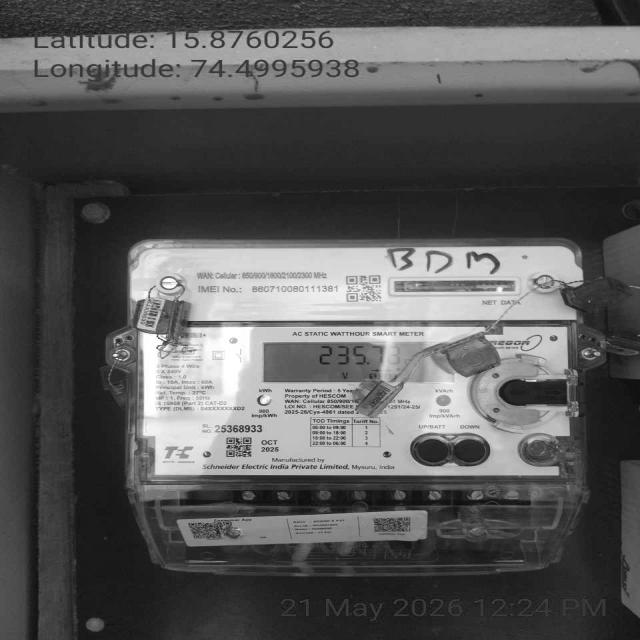meter: (129, 247, 584, 479)
